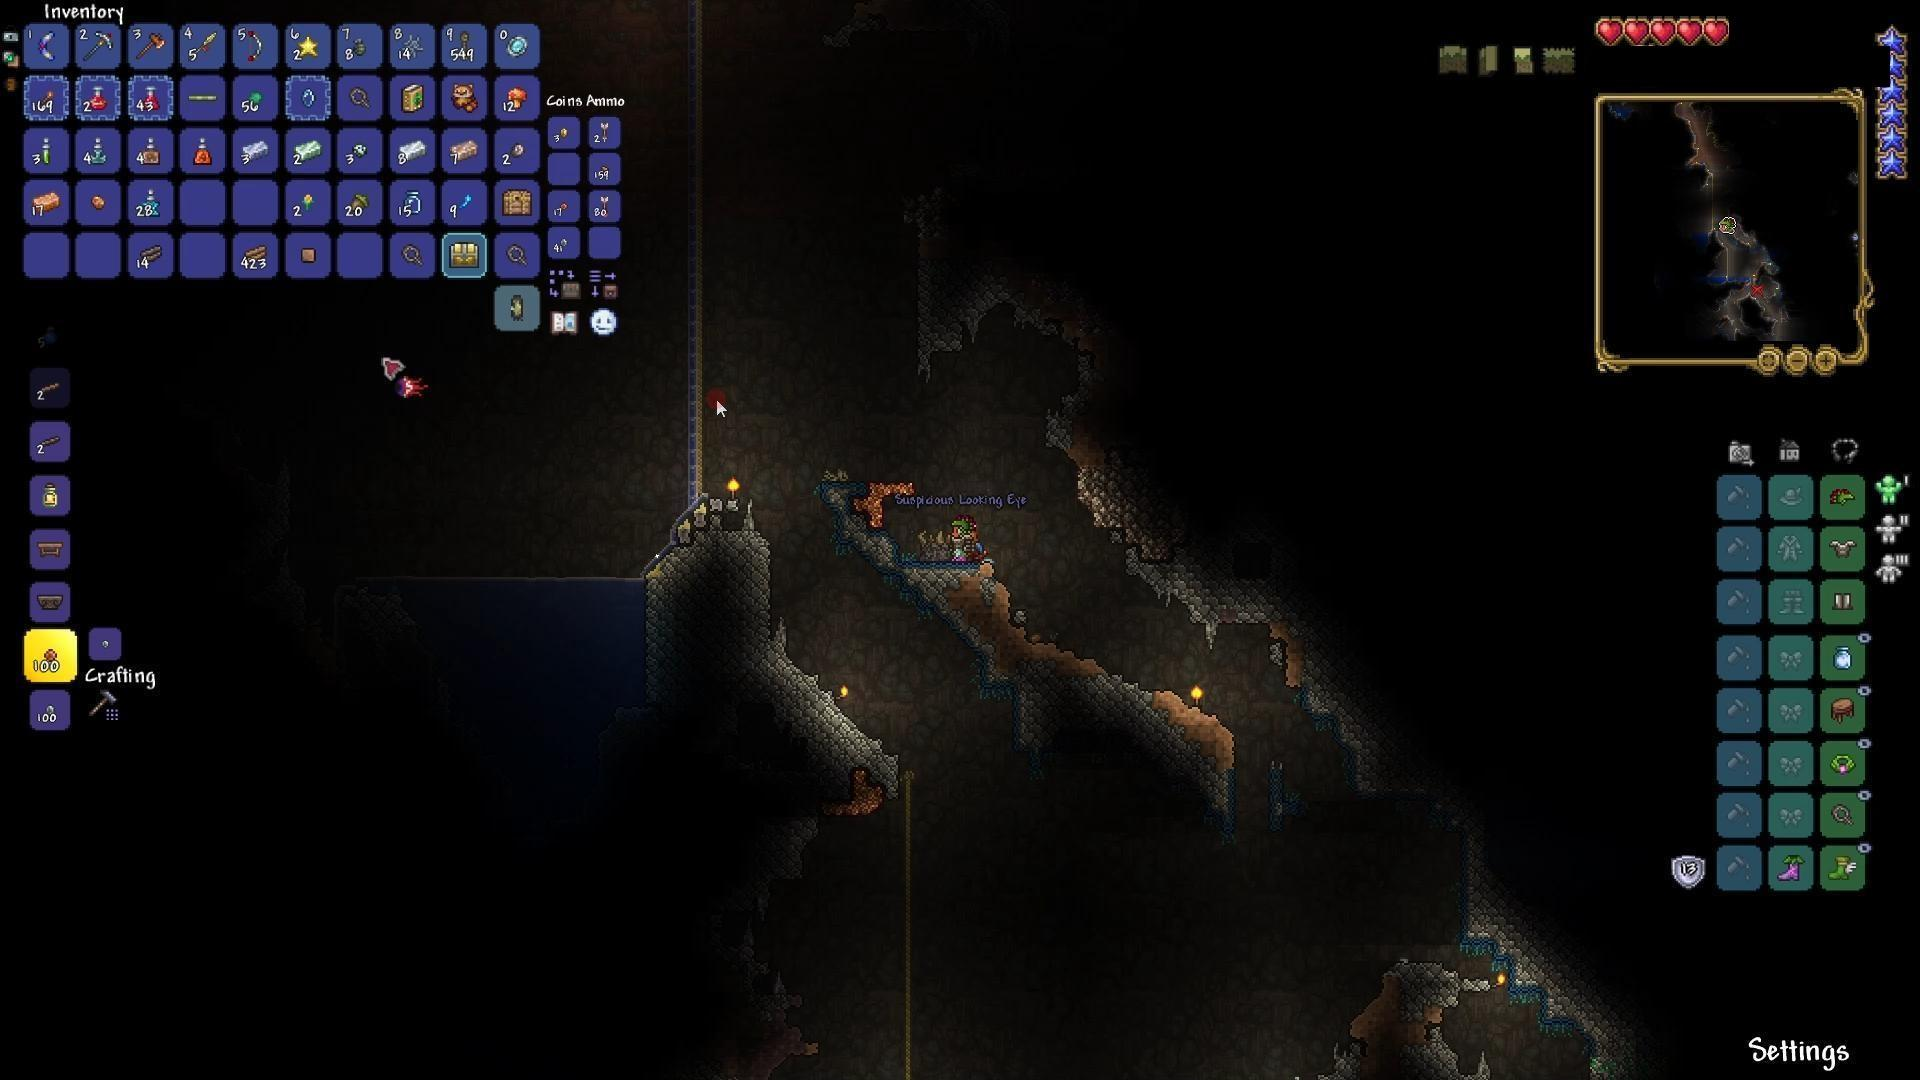heart: (1702, 17, 1733, 51), (1593, 16, 1626, 46), (1676, 15, 1704, 50), (1650, 16, 1676, 49), (1625, 15, 1651, 44)
liquid: (385, 554, 642, 601)
stone: (731, 647, 913, 770), (649, 517, 782, 679), (1129, 547, 1288, 650), (916, 223, 989, 389), (1460, 827, 1538, 972), (1018, 688, 1121, 789)
